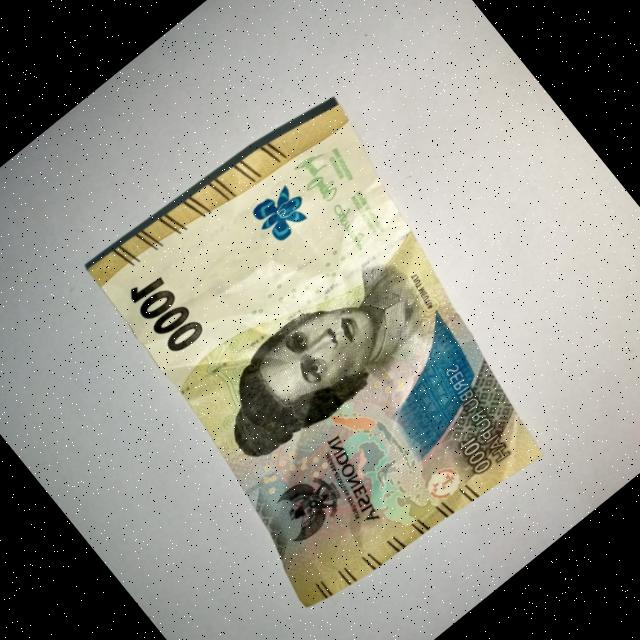1K: (35, 56, 607, 638)
